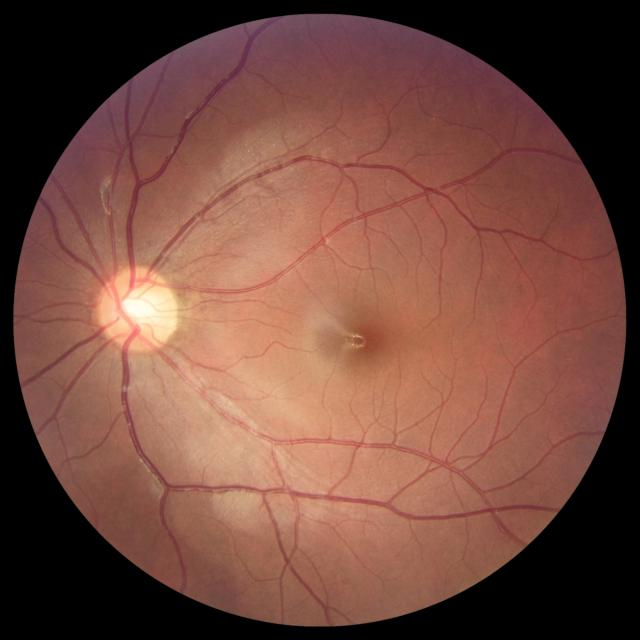OC: (118, 290, 162, 330)
OD: (97, 265, 181, 353)
